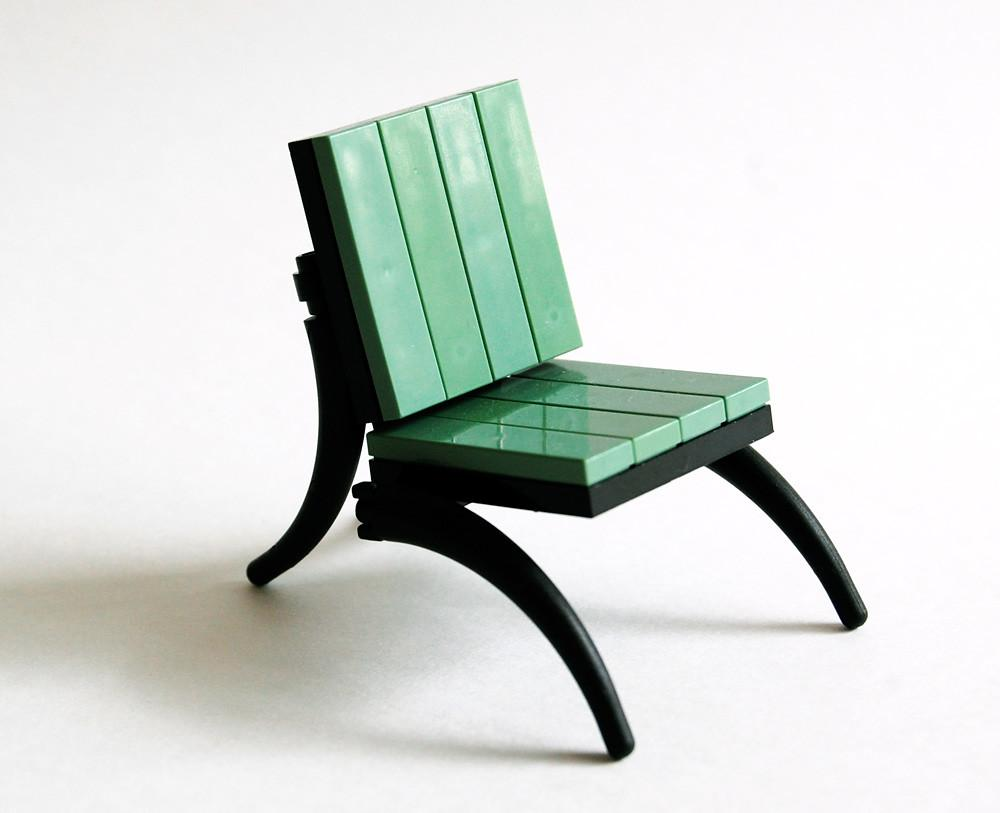chair: (245, 77, 870, 762)
